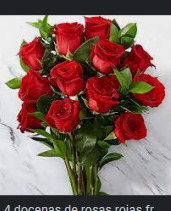RedRose: (52, 17, 90, 60), (86, 73, 122, 116), (49, 60, 89, 98), (43, 96, 84, 132), (87, 38, 125, 72), (118, 111, 149, 142)
